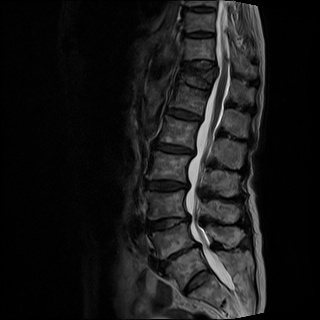L1,v2: (170, 88, 211, 111)
L1-L2,v1: (164, 104, 205, 127)
L2,v2: (156, 122, 197, 145)
L2-L3,: (153, 138, 194, 161)
L3,v2: (147, 155, 188, 178)
L3-L4,v3: (145, 175, 186, 198)
L4,v2: (146, 193, 187, 216)
L4-L5,v3: (148, 213, 189, 236)
L5,v2: (152, 230, 193, 253)
L5-S1,v3: (156, 243, 197, 266)
T12-L1,v1: (175, 71, 216, 94)
